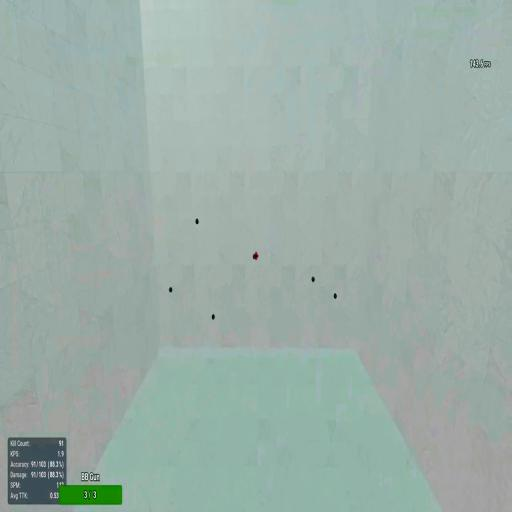Crosshair: (254, 253, 258, 260)
Target: (332, 292, 338, 299), (168, 286, 173, 293), (195, 218, 199, 225), (211, 313, 215, 320), (252, 253, 256, 260), (311, 276, 315, 282)
